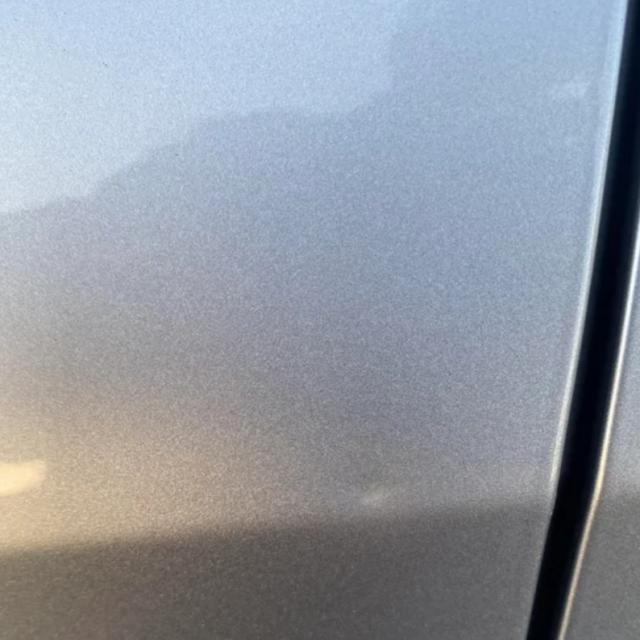dents: (335, 461, 440, 548)
